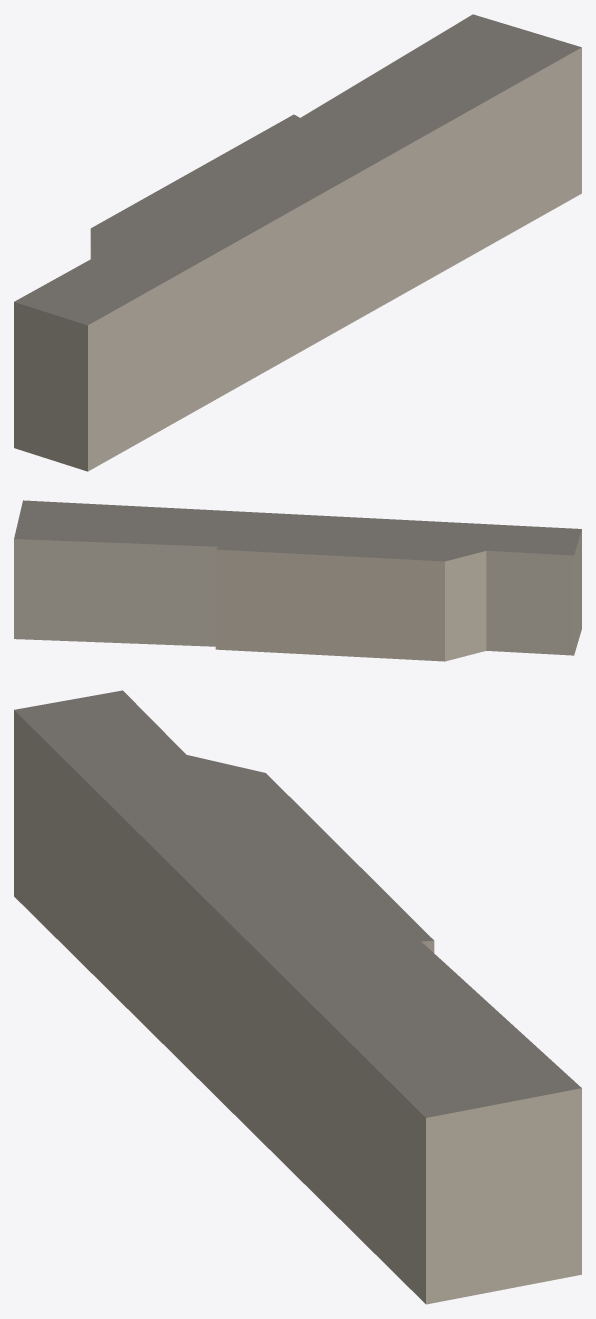
3 views of the same model, one above another, from view 1: azimuth 30°, elevation 25°; view 2: azimuth 150°, elevation 25°; view 3: azimuth 270°, elevation 25° (orthographic). The views are drawn at different scales.
Parts seen in each view (by area): view 1: HP-w298783125; view 2: HP-w298783125; view 3: HP-w298783125.
Part boxes in pixels (box(x1,y1,x2,y2)): HP-w298783125: box(14, 14, 581, 471); HP-w298783125: box(14, 500, 581, 661); HP-w298783125: box(14, 690, 581, 1304).
Bounding box in the file's own units: 88.48 × 18 × 49.67.
